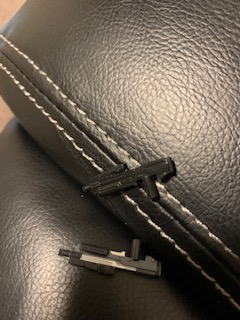rifle: (52, 234, 167, 287), (79, 154, 181, 204)
